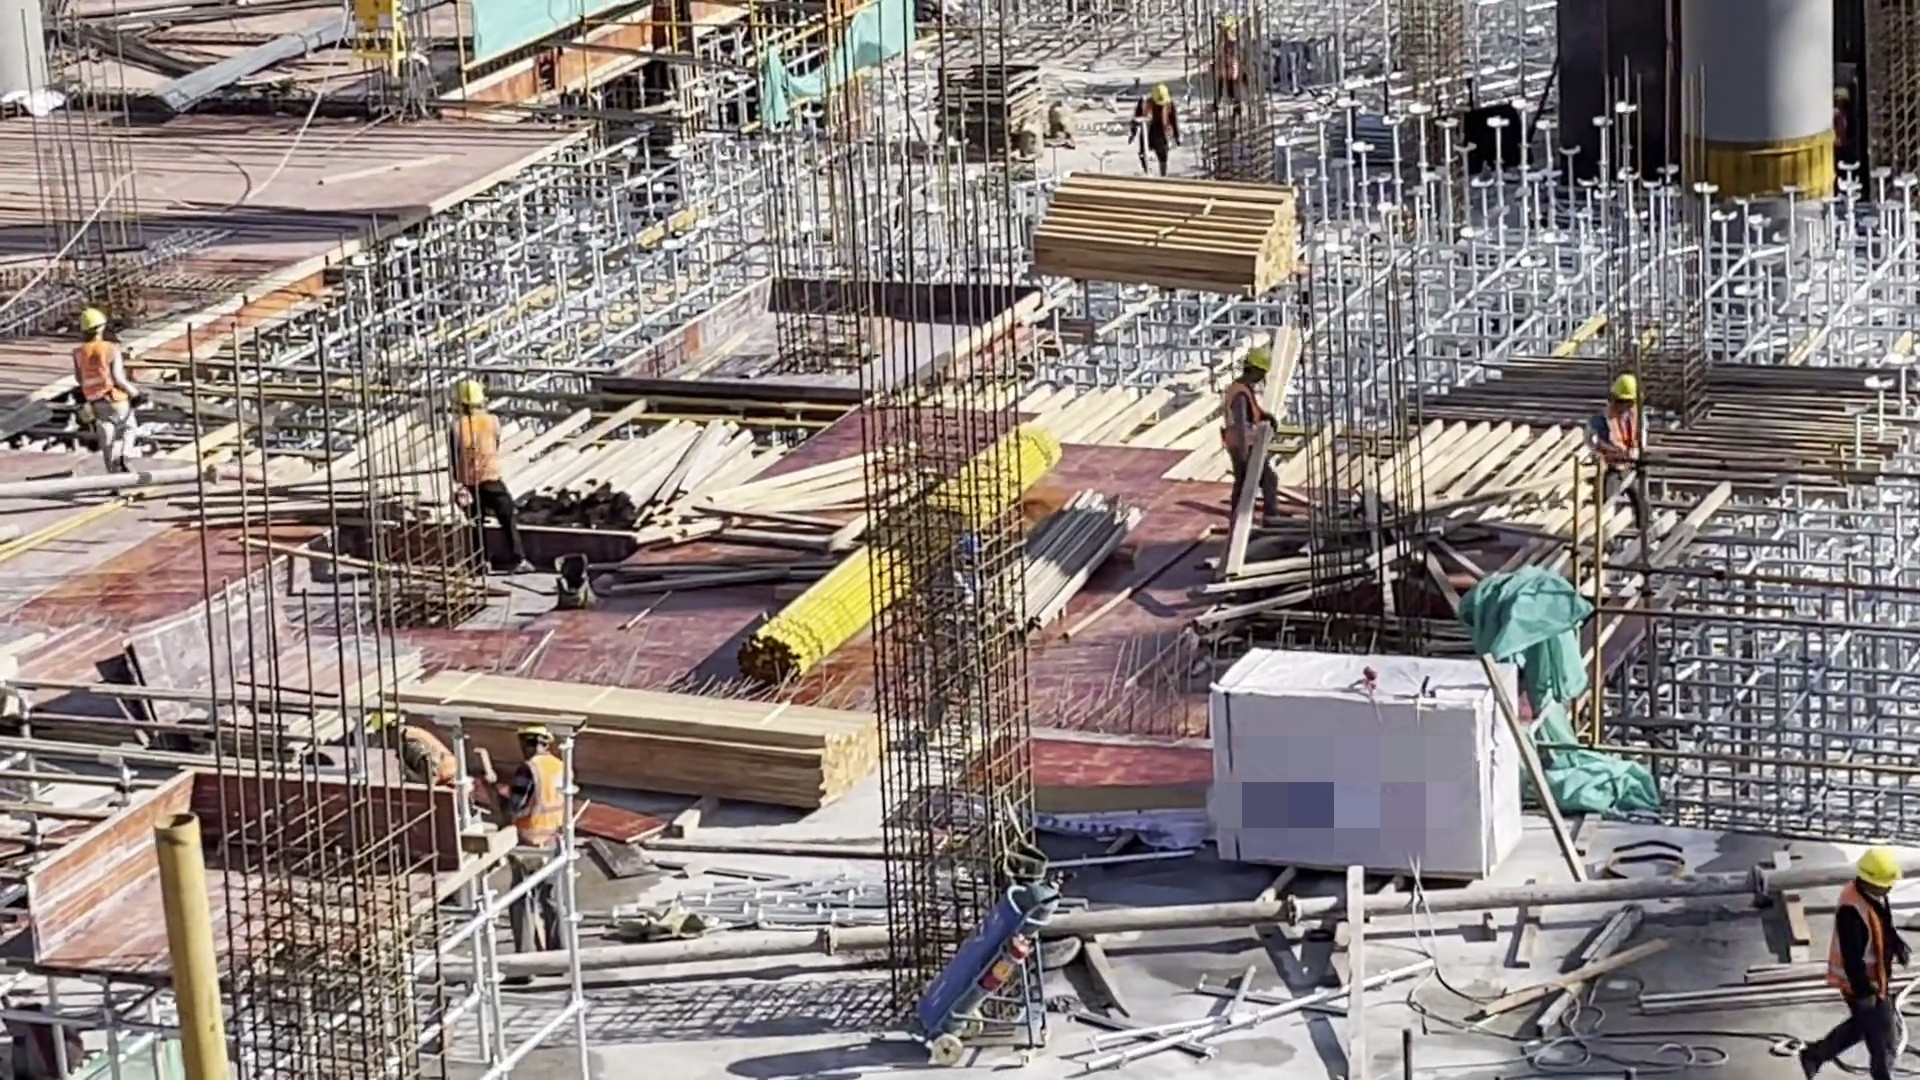ebox: (349, 1, 401, 74)
helmet: (1854, 846, 1902, 888), (1240, 344, 1274, 378), (1608, 376, 1642, 405), (457, 381, 491, 408), (80, 307, 111, 330), (1149, 82, 1173, 107)
person: (1801, 846, 1920, 1080), (485, 726, 585, 958), (914, 530, 999, 760), (68, 295, 145, 493), (450, 384, 510, 567), (1218, 342, 1279, 503), (1586, 372, 1649, 513), (368, 710, 471, 780), (1132, 79, 1181, 174)
rebar: (146, 13, 350, 116)
vest: (1824, 890, 1897, 1019), (514, 756, 576, 846), (451, 409, 495, 490), (384, 727, 456, 775), (1217, 384, 1258, 466), (75, 344, 122, 414)
wood: (522, 400, 862, 545), (579, 677, 883, 816), (1024, 168, 1302, 300)
